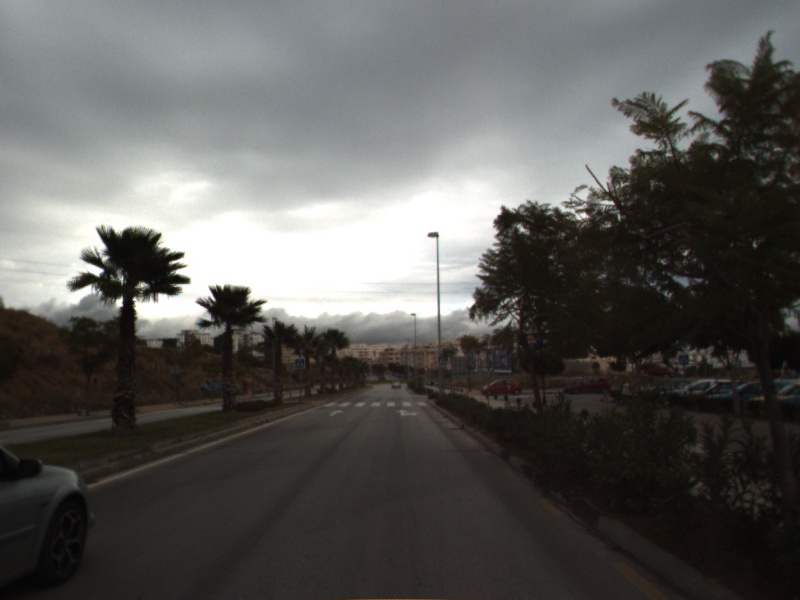STRAIGHT: (327, 407, 346, 418)
STRAIGHT_RIGHT: (393, 407, 420, 418)
